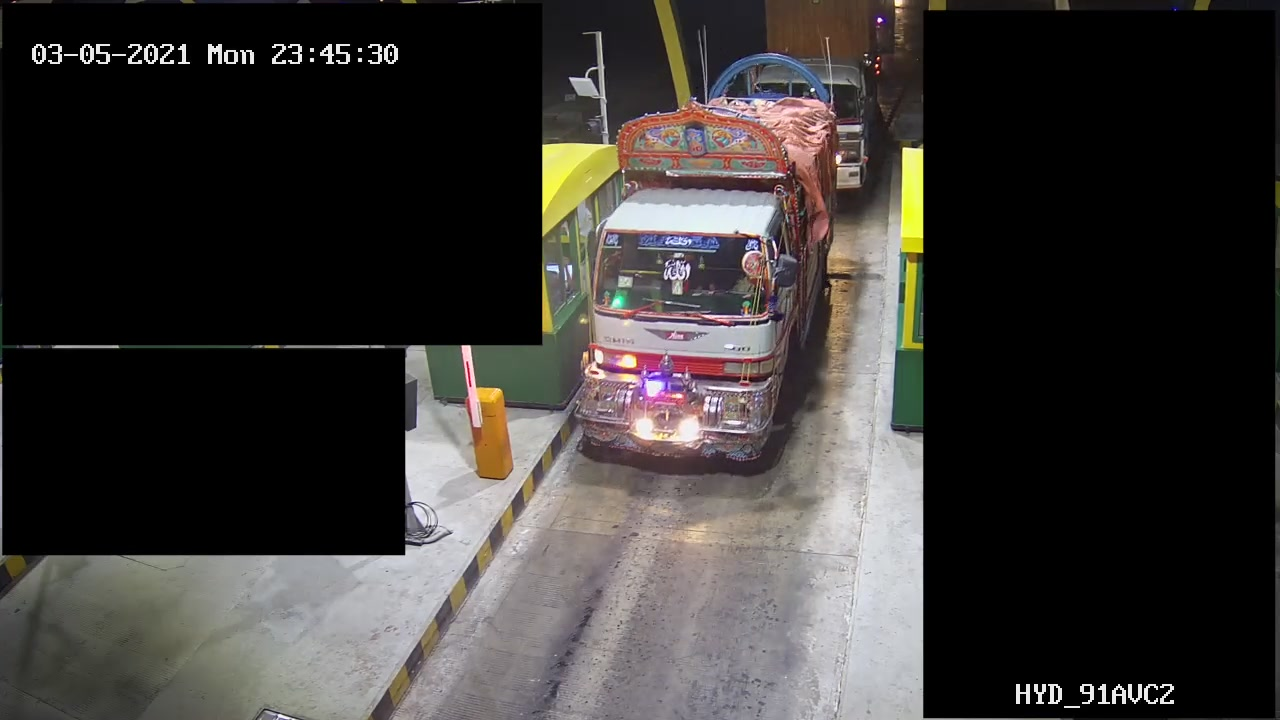F5: (569, 99, 845, 473)
